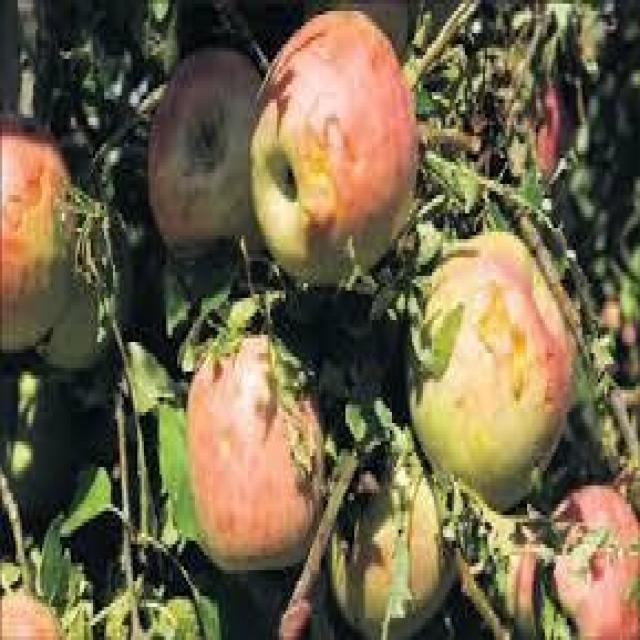Fresh Apple: (248, 17, 420, 292), (426, 252, 582, 495), (178, 347, 340, 573)
